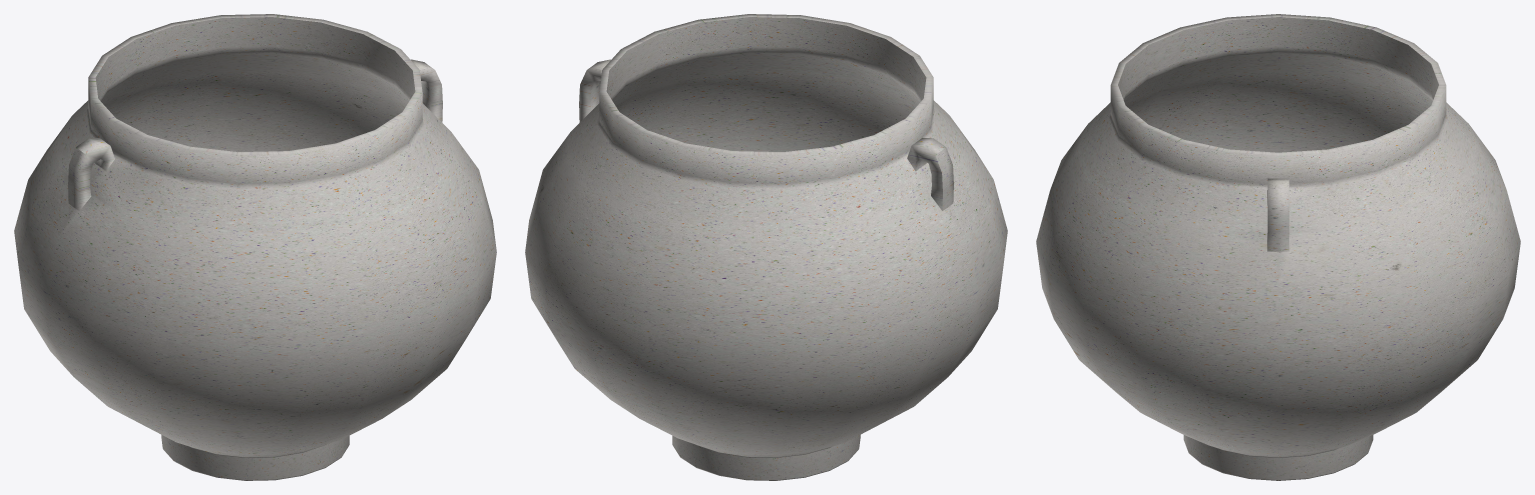
Rendered from taoci2.FBX.
3 renders of one model, left to right at view 1: azimuth 30°, elevation 25°; view 2: azimuth 150°, elevation 25°; view 3: azimuth 270°, elevation 25°, orthographic.
Visible parts, largest first — view 1: 对象002; view 2: 对象002; view 3: 对象002.
Boxes of the visible parts, x1,y1,x2,y2 form: 对象002: (14, 14, 496, 480); 对象002: (525, 14, 1007, 480); 对象002: (1036, 14, 1520, 480).
Bounding box in the file's own units: 2.75 × 2.23 × 2.75.
